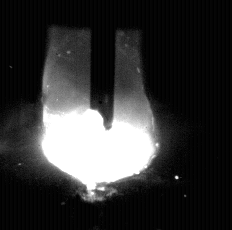arame: (91, 0, 115, 131)
poca: (42, 0, 156, 230)
